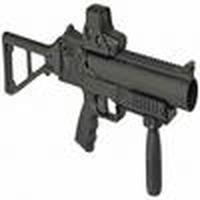gun: (1, 5, 200, 156)
